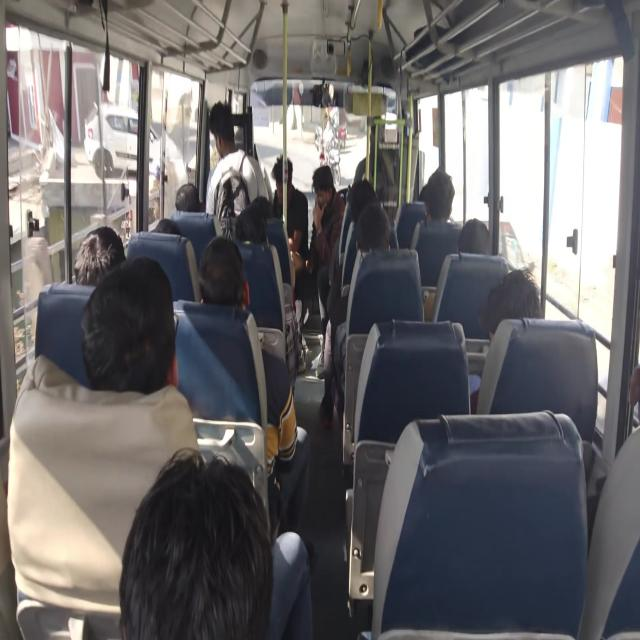person: (124, 464, 278, 640), (86, 264, 184, 407), (73, 224, 132, 300), (485, 265, 540, 334), (201, 236, 245, 304), (426, 174, 464, 237), (172, 185, 213, 240), (239, 197, 272, 258), (203, 102, 237, 154), (464, 212, 496, 266), (270, 158, 298, 205), (305, 173, 332, 212), (153, 212, 177, 250), (247, 184, 269, 220)
